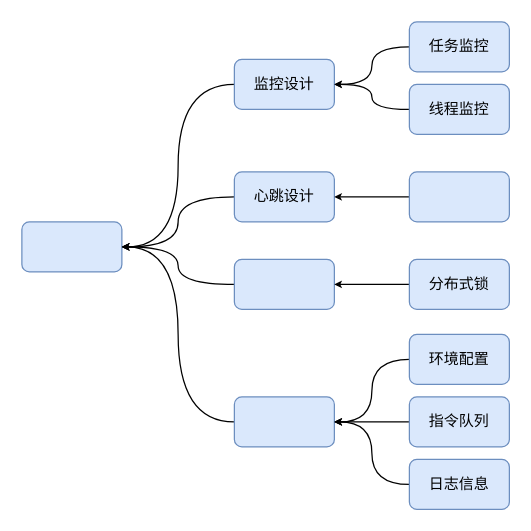
Image size: 531x531. Some labels were removed from this diagram. Here are the shapes that lost their labels. From the top down, the box of each, then its label:
(408, 171, 509, 222): 心跳描述符
(21, 221, 122, 272): 任务请求
(233, 258, 334, 309): 分布式设计
(233, 396, 334, 447): 任务控制设计
